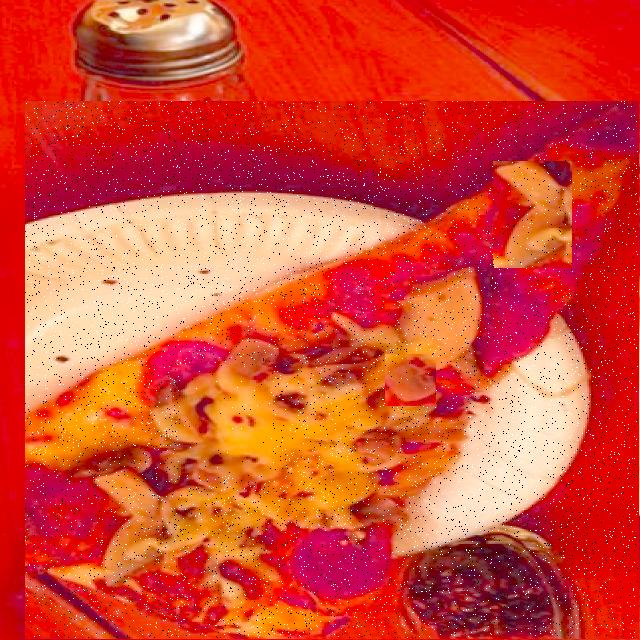Cheese: (306, 206, 447, 347)
Mushrooms: (180, 366, 273, 476), (494, 162, 572, 268), (386, 355, 436, 406)
Pizza: (26, 102, 638, 638)
